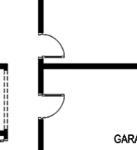door: (31, 91, 79, 127), (34, 32, 70, 60)
